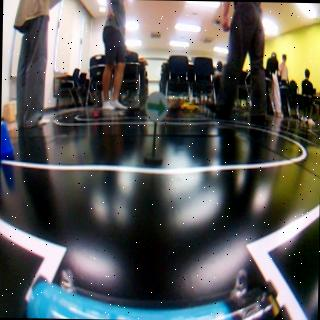right: (145, 92, 166, 120)
